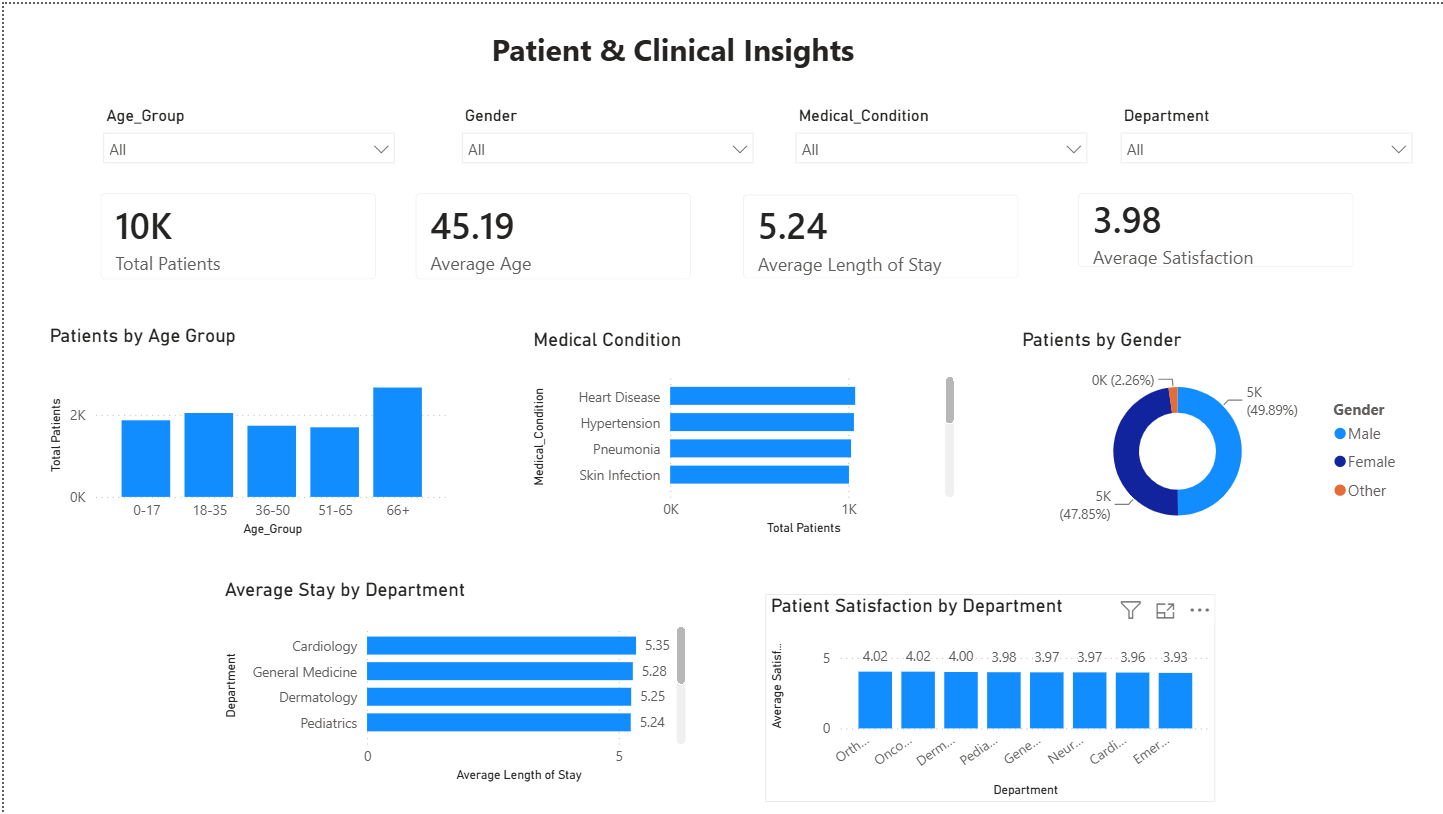

Layout of this report page (visuals, bound fields, positions):
{"tool":"powerbi","page":{"name":"Patient & Clinical Insights","canvas":[1280,720],"ordinal":1},"visuals":[{"type":"cardVisual","fields":{"Data":["healthcare_data.Total Patients"]},"box":[68.6,150.9,279.9,111.1],"z":0},{"type":"cardVisual","fields":{"Data":["healthcare_data.Average Age"]},"box":[348.5,150.9,279.9,111.1],"z":1},{"type":"cardVisual","fields":{"Data":["healthcare_data.Average Length of Stay"]},"box":[639.5,152.3,279.9,109.8],"z":2},{"type":"cardVisual","fields":{"Data":["healthcare_data.Average Satisfaction"]},"box":[937.2,150.9,279.9,100.2],"z":3},{"type":"clusteredColumnChart","title":"Patients by Age Group","fields":{"Y":["healthcare_data.Total Patients"],"Category":["healthcare_data.Age_Group"]},"box":[35.7,284,365,193.5],"z":4},{"type":"clusteredBarChart","title":" Medical Condition","fields":{"Category":["healthcare_data.Medical_Condition"],"Y":["healthcare_data.Total Patients"]},"box":[465.2,288.2,384.2,189.4],"z":5},{"type":"donutChart","title":" Patients by Gender","fields":{"Category":["healthcare_data.Gender"],"Y":["healthcare_data.Total Patients"]},"box":[900.2,288.2,352.7,189.4],"z":6},{"type":"clusteredBarChart","title":"Average Stay by Department","fields":{"Category":["healthcare_data.Department"],"Y":["healthcare_data.Average Length of Stay"]},"box":[190.7,510.5,419.9,186.6],"z":7},{"type":"clusteredColumnChart","title":"Patient Satisfaction by Department","fields":{"Category":["healthcare_data.Department"],"Y":["healthcare_data.Average Satisfaction"]},"box":[676.5,524.2,400.7,185.2],"z":8},{"type":"slicer","fields":{"Values":["healthcare_data.Age_Group"]},"box":[78.2,85.1,279.9,67.2],"z":9},{"type":"slicer","fields":{"Values":["healthcare_data.Gender"]},"box":[396.6,85.1,279.9,64.5],"z":10},{"type":"slicer","fields":{"Values":["healthcare_data.Medical_Condition"]},"box":[693,85.1,279.9,64.5],"z":11},{"type":"slicer","fields":{"Values":["healthcare_data.Department"]},"box":[982.5,85.1,279.9,64.5],"z":12},{"type":"textbox","box":[112.5,16.5,964.7,68.6],"z":13}]}

Visuals, with their boxes in screenshot pixels (x1, y1, x2, y2), scaled from the page's 1280x720 canvas onto the 1443x814 screenshot:
cardVisual - healthcare_data.Total Patients: x1=77 y1=171 x2=393 y2=296
cardVisual - healthcare_data.Average Age: x1=393 y1=171 x2=708 y2=296
cardVisual - healthcare_data.Average Length of Stay: x1=721 y1=172 x2=1036 y2=296
cardVisual - healthcare_data.Average Satisfaction: x1=1057 y1=171 x2=1372 y2=284
"Patients by Age Group" clusteredColumnChart: x1=40 y1=321 x2=452 y2=540
" Medical Condition" clusteredBarChart: x1=524 y1=326 x2=958 y2=540
" Patients by Gender" donutChart: x1=1015 y1=326 x2=1412 y2=540
"Average Stay by Department" clusteredBarChart: x1=215 y1=577 x2=688 y2=788
"Patient Satisfaction by Department" clusteredColumnChart: x1=763 y1=593 x2=1214 y2=802
slicer - healthcare_data.Age_Group: x1=88 y1=96 x2=404 y2=172
slicer - healthcare_data.Gender: x1=447 y1=96 x2=763 y2=169
slicer - healthcare_data.Medical_Condition: x1=781 y1=96 x2=1097 y2=169
slicer - healthcare_data.Department: x1=1108 y1=96 x2=1423 y2=169
textbox: x1=127 y1=19 x2=1214 y2=96
